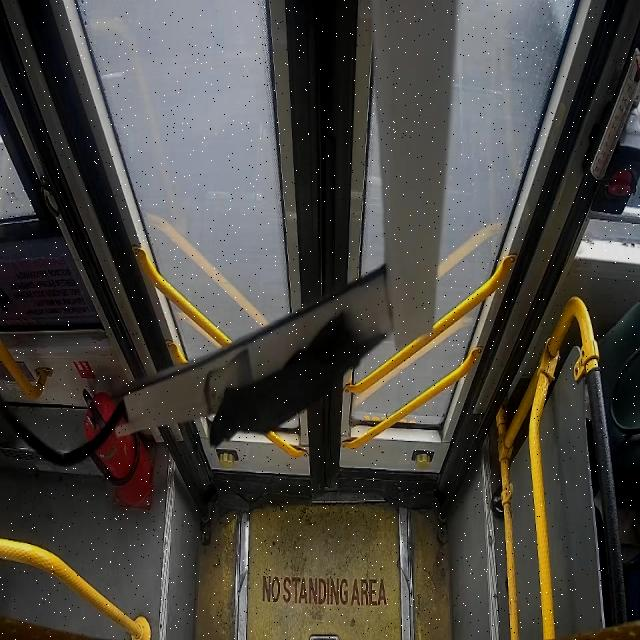close: (74, 2, 576, 488)
